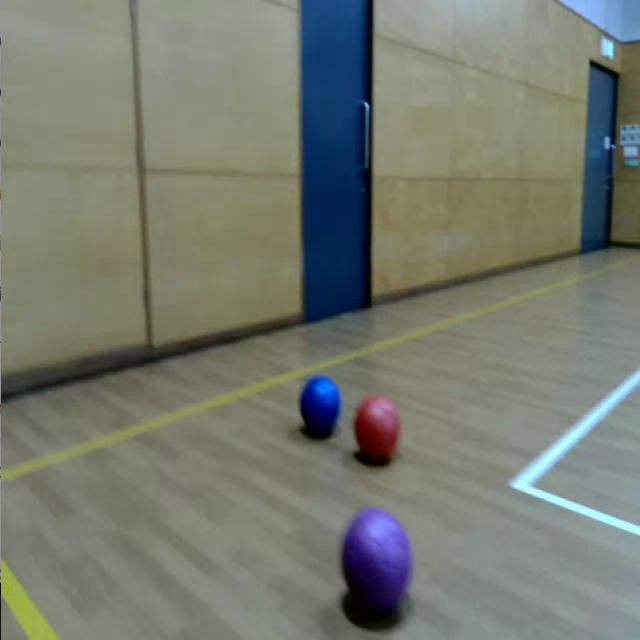blue_ball: (299, 375, 342, 431)
purple_ball: (340, 509, 414, 606)
red_ball: (353, 397, 401, 458)
